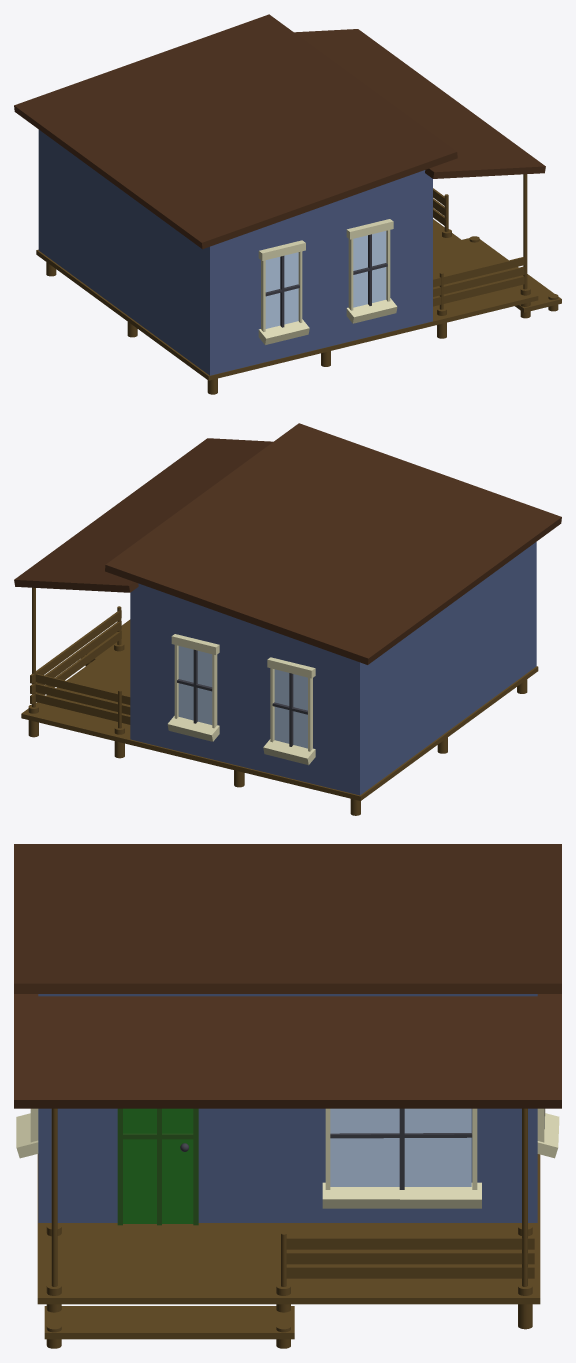
The model's file is BeachHouse2.fbx.
3 renders of one model, top to bottom at view 1: azimuth 30°, elevation 25°; view 2: azimuth 150°, elevation 25°; view 3: azimuth 270°, elevation 25°, orthographic. The views are drawn at different scales.
Visible parts, largest first — view 1: Cube.3265, Cube.3251, Cube.3266, Cube.3250, Cube.3287, Cube.3294, Cube.3252, Cube.3258, Cube.3256, Cube.3257, Cube.3281, Cube.3288 (+3 smaller); view 2: Cube.3265, Cube.3251, Cube.3266, Cube.3250, Cube.3301, Cube.3308, Cube.3253, Cube.3262, Cube.3264, Cube.3263, Cube.3254, Cube.3295 (+4 smaller); view 3: Cube.3265, Cube.3266, Cube.3251, Cube.3250, Cube.3280, Cube.3252, Cube.3267, Cube.3274, Cube.3253, Cube.3255, Cube.3254, Cylinder.067 (+6 smaller).
Boxes of the visible parts, <box> form: Cube.3265: <box>14,14,457,249</box>; Cube.3251: <box>38,129,432,375</box>; Cube.3266: <box>294,29,545,178</box>; Cube.3250: <box>36,219,538,380</box>; Cube.3287: <box>265,252,298,328</box>; Cube.3294: <box>353,231,386,307</box>; Cube.3252: <box>462,238,561,312</box>; Cube.3258: <box>433,276,524,306</box>; Cube.3256: <box>433,257,524,287</box>; Cube.3257: <box>433,266,524,296</box>; Cube.3281: <box>258,319,309,344</box>; Cube.3288: <box>346,298,397,323</box>; Cube.3265: <box>105,423,561,664</box>; Cube.3251: <box>130,542,536,795</box>; Cube.3266: <box>14,438,273,592</box>; Cube.3250: <box>21,634,538,800</box>; Cube.3301: <box>178,646,212,724</box>; Cube.3308: <box>274,669,307,748</box>; Cube.3253: <box>30,610,121,683</box>; Cube.3262: <box>35,673,130,704</box>; Cube.3264: <box>35,693,130,724</box>; Cube.3263: <box>35,683,130,714</box>; Cube.3254: <box>30,621,121,693</box>; Cube.3295: <box>167,716,219,741</box>; Cube.3265: <box>14,844,561,993</box>; Cube.3266: <box>14,994,561,1108</box>; Cube.3251: <box>38,994,537,1222</box>; Cube.3250: <box>37,1154,540,1304</box>; Cube.3280: <box>330,1108,471,1186</box>; Cube.3252: <box>44,1306,294,1339</box>; Cube.3267: <box>123,1108,193,1223</box>; Cube.3274: <box>322,1182,481,1208</box>; Cube.3253: <box>286,1237,534,1249</box>; Cube.3255: <box>286,1266,534,1278</box>; Cube.3254: <box>286,1252,534,1264</box>; Cylinder.067: <box>51,1108,57,1286</box>.
Bounding box in the file's own units: 12546 × 6293 × 11015.
